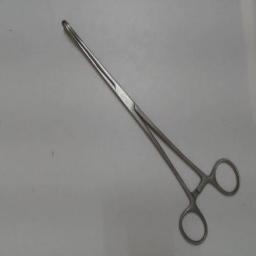Sponge Forceps: (58, 16, 246, 250)
